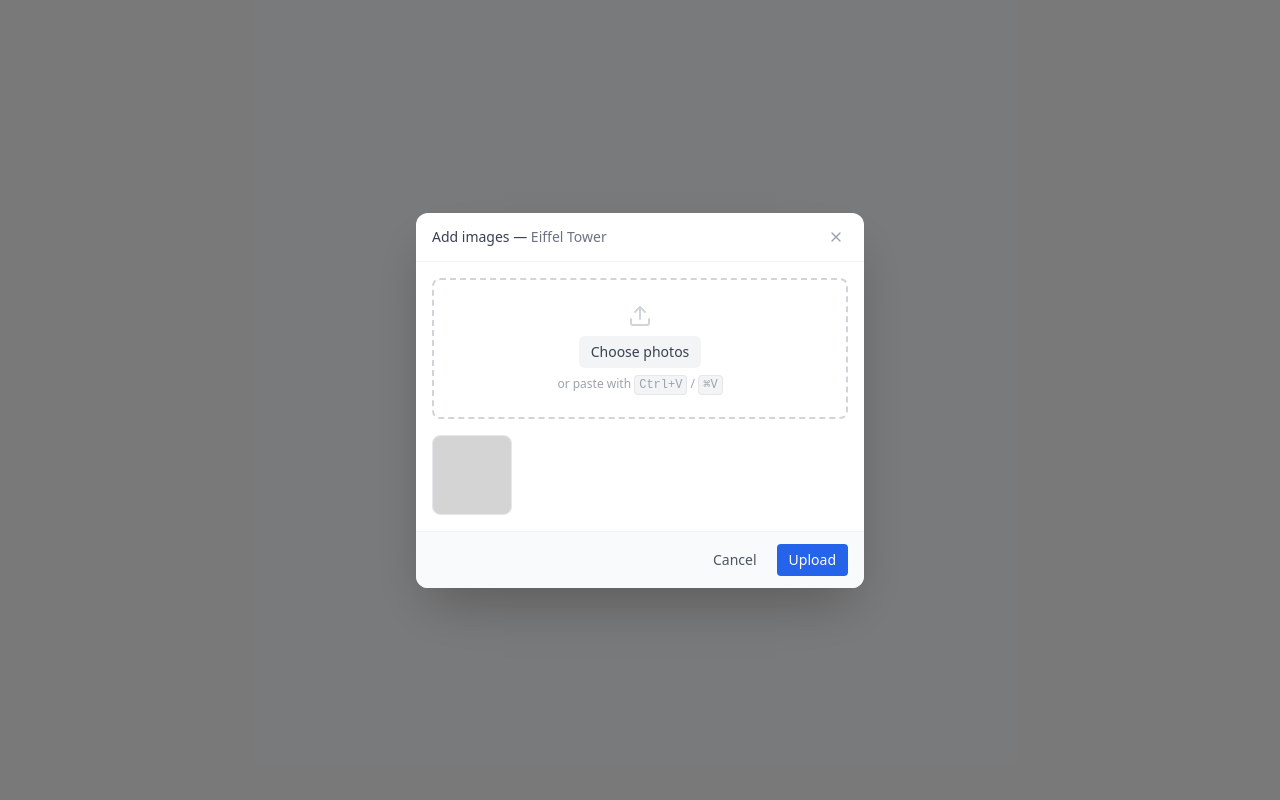
AttractionImageModal › shows error message when upload fails
This screenshot has width=1280, height=800.
Click the button "Upload": [812, 560] box [777,544,848,576]
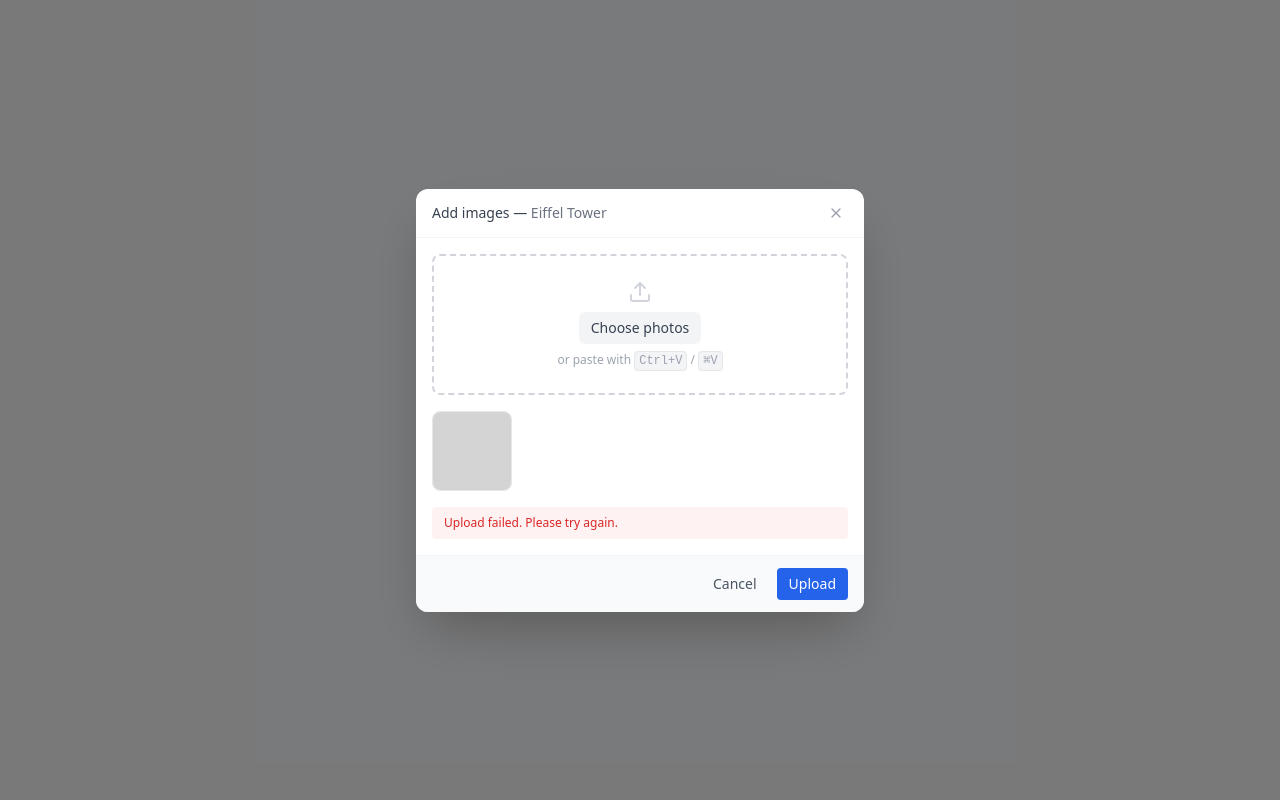
Expected: the message "Upload failed. Please try again." is shown, [432,506,848,538]
Expected: the message reads "Upload failed. Please try again.", [444,514,618,530]
